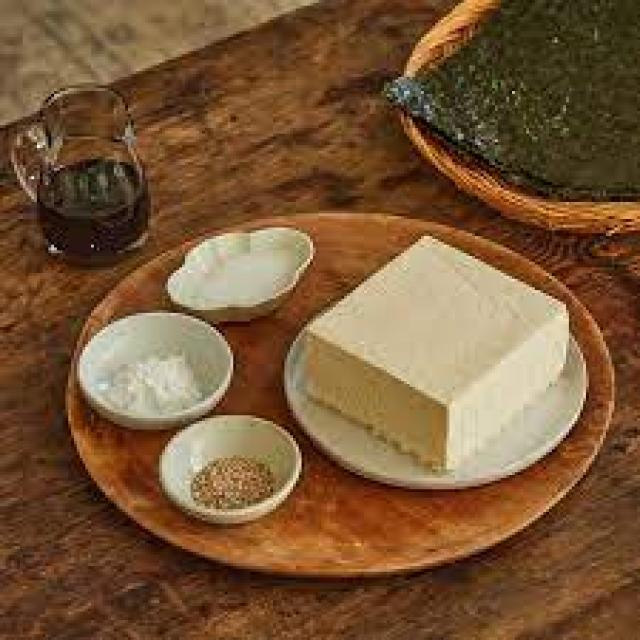tofu: (298, 225, 581, 481)
